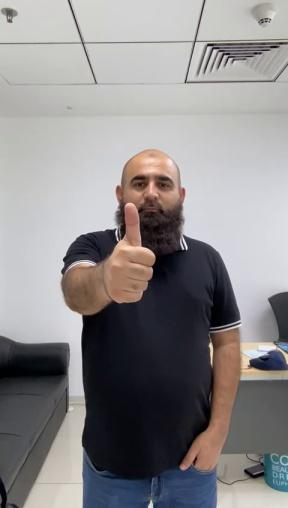thumbs-up: (105, 204, 155, 303)
